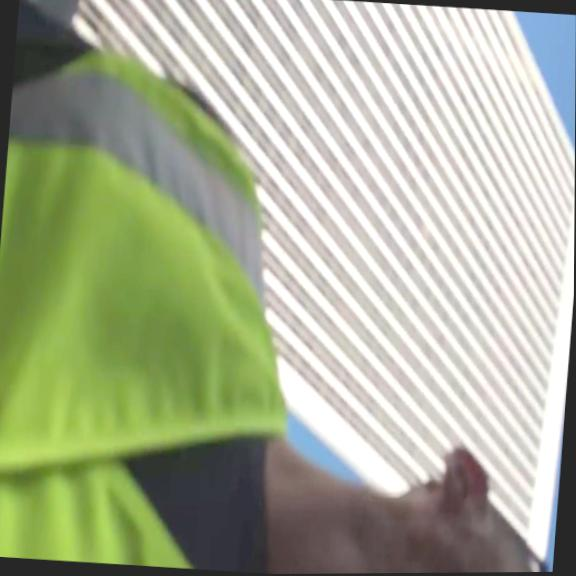safety_vest: (0, 45, 321, 576)
